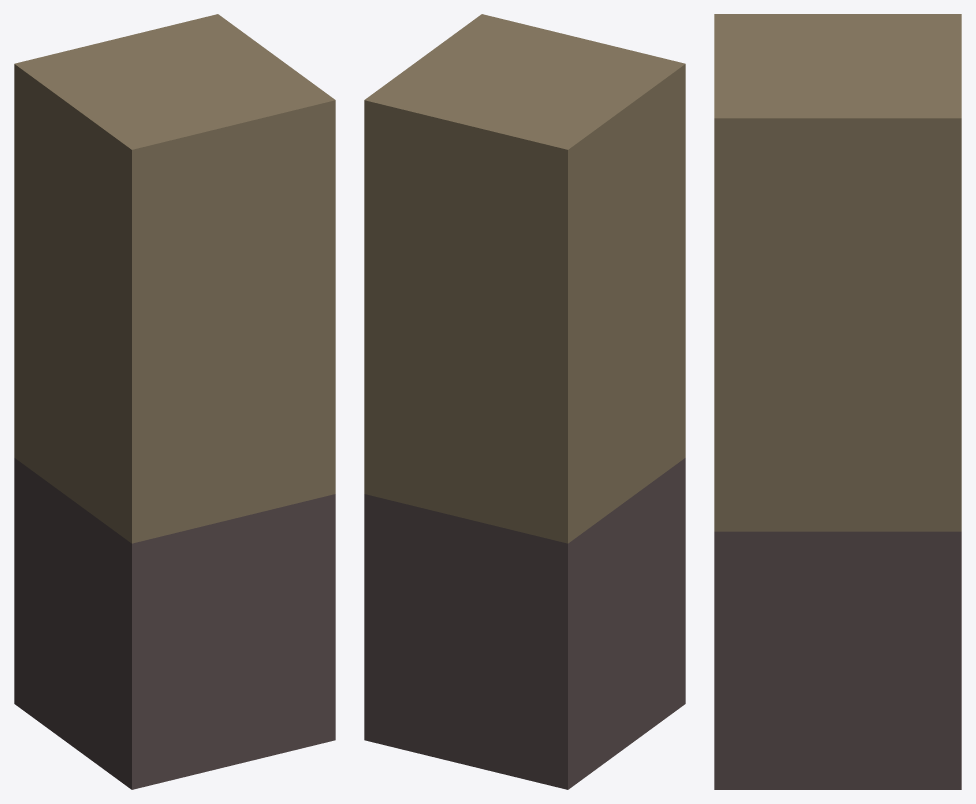
File: Res01_StoreRoom_Pillar.fbx
The picture shows the model from 3 angles, left to right: view 1: azimuth 30°, elevation 25°; view 2: azimuth 150°, elevation 25°; view 3: azimuth 270°, elevation 25°; orthographic projection. The views are drawn at different scales.
Parts seen in each view (by area): view 1: Res01_StoreRoom_Pillar; view 2: Res01_StoreRoom_Pillar; view 3: Res01_StoreRoom_Pillar.
Part boxes in pixels (x1=…): Res01_StoreRoom_Pillar: x1=14, y1=14, x2=335, y2=789; Res01_StoreRoom_Pillar: x1=364, y1=14, x2=685, y2=789; Res01_StoreRoom_Pillar: x1=714, y1=14, x2=961, y2=789.
Size of the model in its own units: 100 by 300 by 100.
